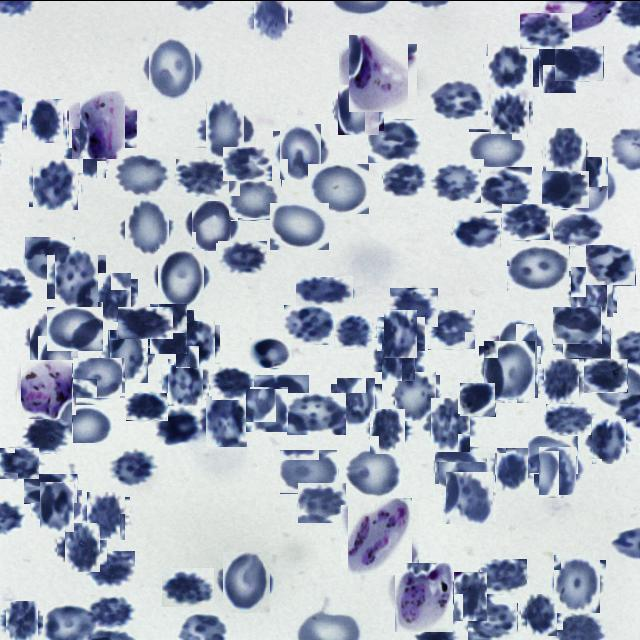red blood cell: (482, 342, 538, 400), (144, 40, 200, 96), (308, 163, 369, 213), (220, 554, 274, 608), (507, 245, 570, 291), (345, 448, 404, 496), (154, 250, 208, 302), (270, 202, 329, 249), (551, 556, 603, 608), (435, 446, 496, 490), (51, 250, 102, 302), (121, 201, 172, 252), (280, 449, 338, 493), (114, 154, 172, 198), (200, 102, 250, 152), (276, 126, 326, 176), (444, 472, 494, 522), (469, 128, 528, 170), (287, 392, 346, 434), (47, 306, 103, 350), (254, 374, 309, 418), (431, 77, 484, 122), (368, 118, 422, 162), (430, 158, 484, 202), (481, 166, 532, 212), (26, 314, 74, 362), (564, 160, 612, 208), (31, 160, 79, 208), (52, 404, 112, 442), (105, 332, 152, 380), (484, 44, 532, 91), (203, 396, 250, 444), (229, 178, 282, 220), (495, 323, 541, 371), (428, 400, 474, 448), (73, 357, 126, 398), (25, 236, 75, 279), (336, 86, 382, 132), (568, 268, 614, 314), (392, 372, 438, 418), (556, 320, 611, 358), (534, 449, 580, 494), (586, 244, 636, 285), (162, 567, 214, 606), (334, 380, 379, 425), (190, 202, 234, 248), (176, 158, 229, 196), (284, 304, 333, 344), (536, 45, 580, 89), (174, 322, 218, 366), (84, 493, 128, 537), (147, 306, 191, 350), (244, 387, 288, 431), (428, 309, 476, 349), (298, 482, 346, 522), (528, 435, 578, 473), (85, 550, 135, 588), (552, 306, 602, 344), (468, 602, 518, 640), (544, 128, 587, 172), (21, 417, 73, 453), (390, 287, 438, 326), (520, 12, 572, 48), (36, 484, 78, 528), (378, 332, 420, 376), (542, 170, 590, 208), (164, 360, 207, 402), (489, 90, 532, 132), (296, 275, 354, 306), (453, 213, 501, 250), (68, 132, 110, 174), (92, 275, 134, 317), (218, 240, 267, 276), (555, 45, 604, 81), (61, 526, 103, 568), (118, 306, 173, 338), (85, 594, 133, 630), (480, 558, 528, 594), (502, 203, 550, 239), (450, 574, 491, 616), (383, 160, 430, 196), (381, 312, 422, 353), (223, 146, 272, 180), (24, 100, 65, 140), (367, 410, 408, 450), (553, 213, 604, 245), (24, 473, 78, 503), (589, 420, 629, 460), (541, 360, 581, 400), (157, 408, 202, 443), (251, 0, 292, 38), (584, 358, 628, 392), (113, 450, 155, 484), (494, 449, 531, 487), (3, 602, 40, 640), (546, 403, 591, 434), (212, 366, 254, 399), (524, 595, 560, 632), (334, 314, 372, 348), (0, 447, 40, 479), (250, 337, 292, 367), (460, 382, 496, 416), (126, 392, 168, 420)
trophozoite: (344, 501, 416, 572), (344, 38, 412, 107), (392, 565, 456, 629), (75, 96, 132, 152), (19, 360, 74, 416)
